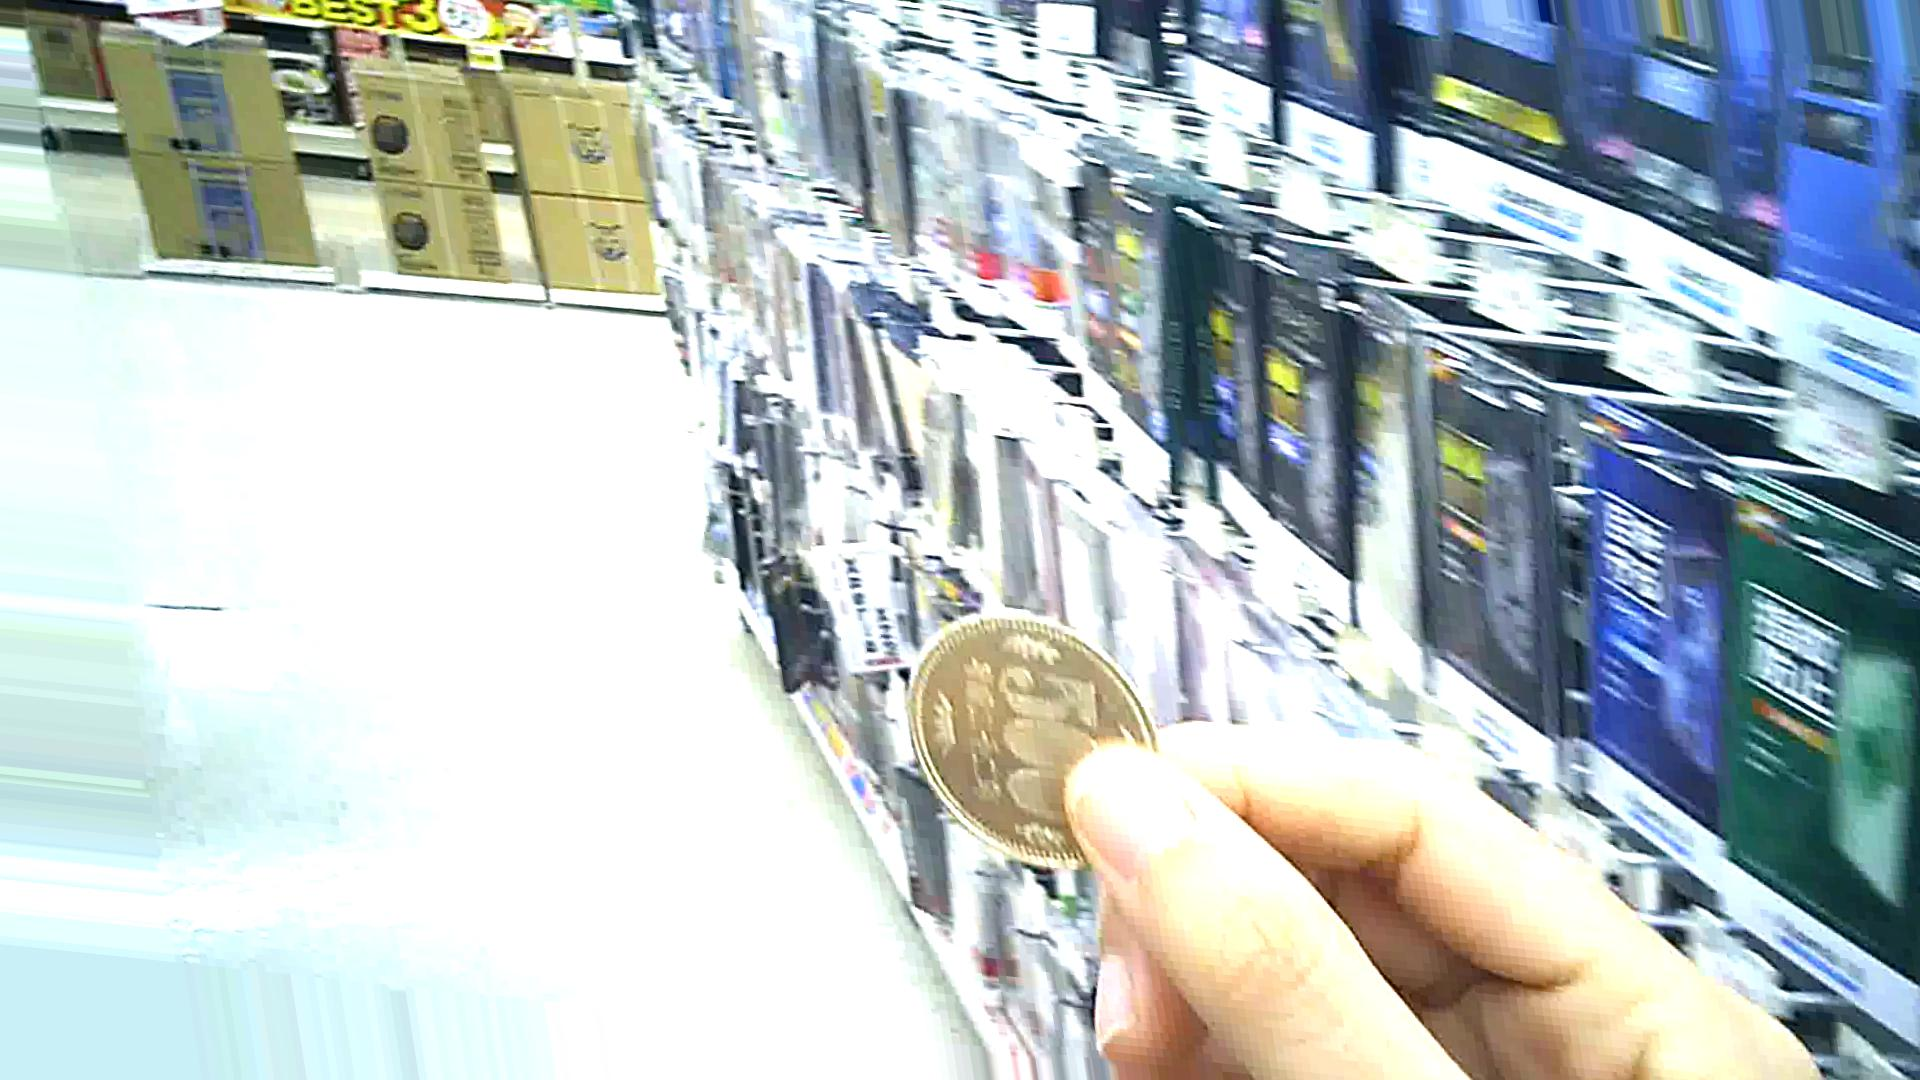500 Yen: (905, 607, 1155, 862)
